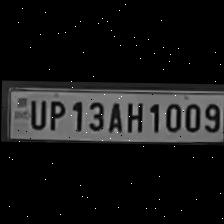0: (160, 99, 182, 131), (181, 100, 201, 132)
1: (65, 98, 83, 132), (143, 98, 161, 131)
3: (84, 96, 104, 130)
9: (200, 98, 222, 131)
A: (104, 97, 124, 130)
H: (122, 98, 144, 132)
P: (44, 96, 64, 130)
U: (24, 95, 46, 128)
